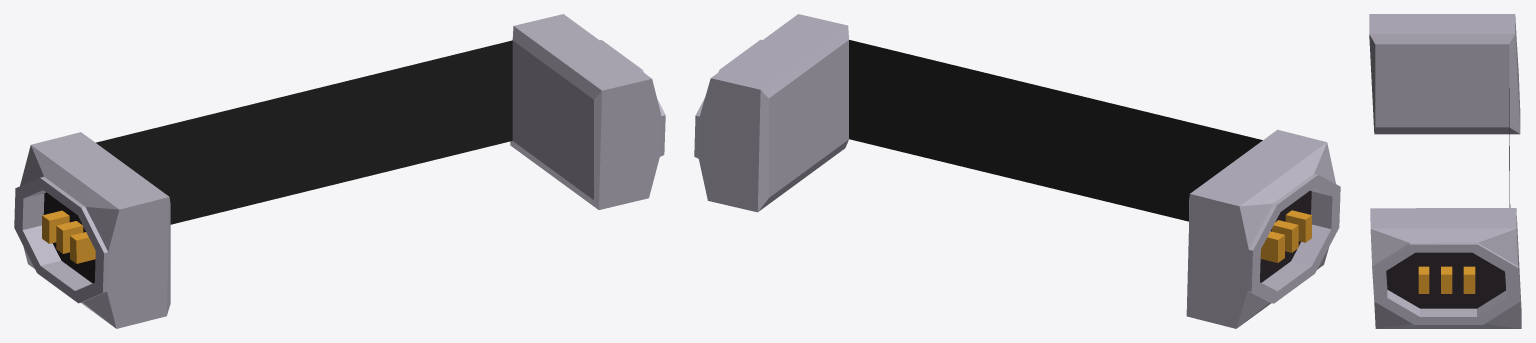
Rendered from cable I.fbx.
The picture shows the model from 3 angles, left to right: view 1: azimuth 30°, elevation 25°; view 2: azimuth 150°, elevation 25°; view 3: azimuth 270°, elevation 25°; orthographic projection. The views are drawn at different scales.
Parts seen in each view (by area): view 1: Cable I; view 2: Cable I; view 3: Cable I.
Part boxes in pixels (left/top/right/bottom): Cable I: left=14, top=14, right=665, bottom=328; Cable I: left=694, top=14, right=1340, bottom=328; Cable I: left=1369, top=14, right=1521, bottom=328.
Size of the model in its own units: 1.97 by 0.4081 by 0.5603.
